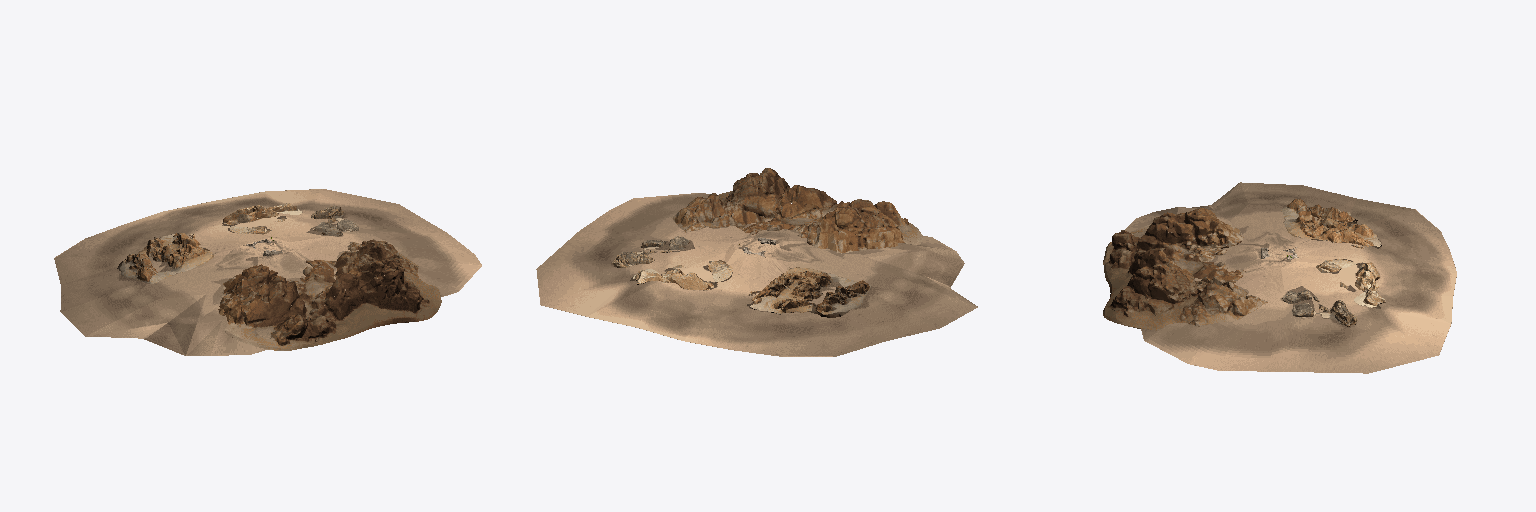
3 views of the same model, side by side, from view 1: azimuth 30°, elevation 25°; view 2: azimuth 150°, elevation 25°; view 3: azimuth 270°, elevation 25° (orthographic).
Parts seen in each view (by area): view 1: Object_66; view 2: Object_66; view 3: Object_66.
Part boxes in pixels (x1,y1,x2,y2): Object_66: (54, 189, 481, 355); Object_66: (536, 168, 977, 356); Object_66: (1103, 182, 1456, 373).
Bounding box in the file's own units: 352 × 48.02 × 283.
6 materials, 6 textured.